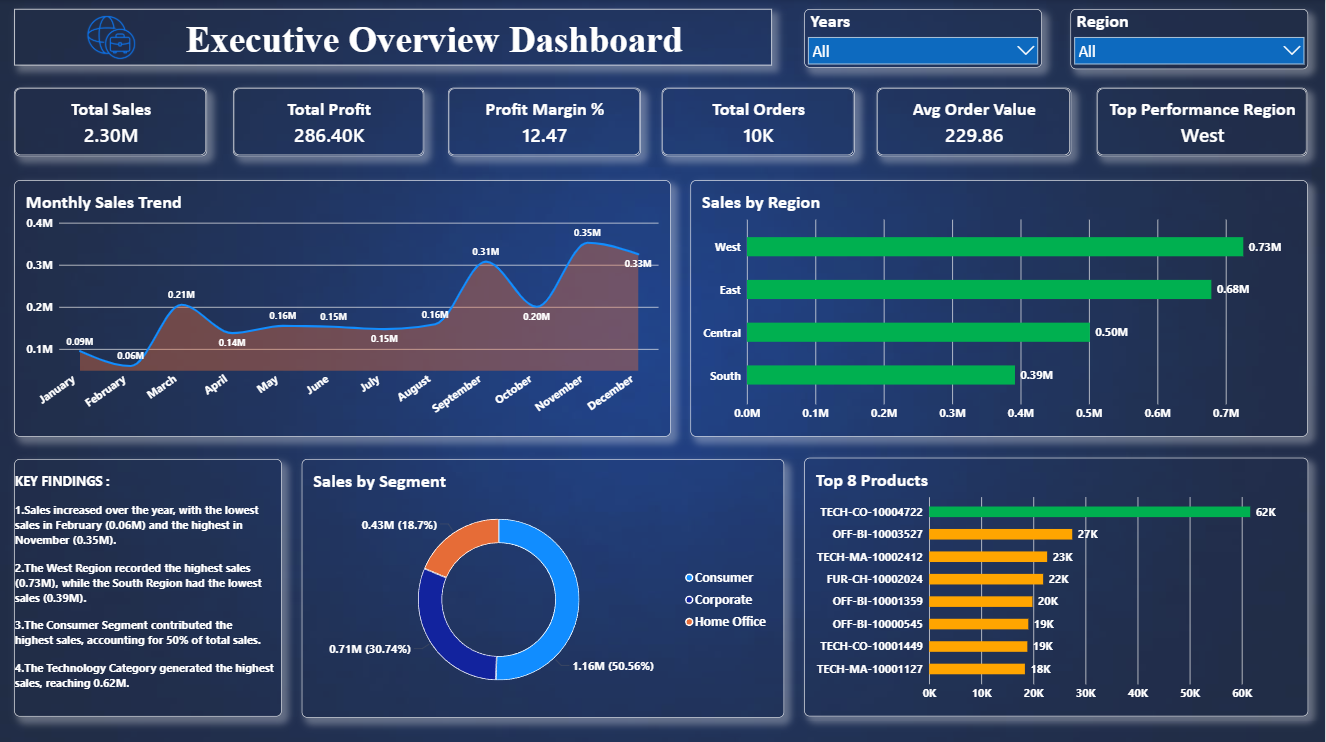

The dashboard page shown, as its layout file describes it:
{"tool":"powerbi","page":{"name":"Executive","canvas":[1920,1080],"ordinal":0},"visuals":[{"type":"cardVisual","fields":{"Data":["Data.Total Sales"]},"box":[23.8,127.7,279.2,99.6],"z":0},{"type":"cardVisual","fields":{"Data":["Data.Total Profit"]},"box":[339.8,127.7,277,99.6],"z":1000},{"type":"cardVisual","fields":{"Data":["Data.Profit Margin %"]},"box":[651.4,127.7,279.2,99.6],"z":2000},{"type":"cardVisual","fields":{"Data":["Data.Total Orders"]},"box":[960.9,127.7,279.2,99.6],"z":3000},{"type":"cardVisual","fields":{"Data":["Data.Avg Order Value"]},"box":[1272.5,127.7,281.3,99.6],"z":4000},{"type":"cardVisual","fields":{"Data":["Data.Top Performance Region"]},"box":[1590.6,127.7,305.1,99.6],"z":5000},{"type":"textbox","box":[23.5,14.5,1096.7,81.4],"z":6000},{"type":"lineChart","title":"Monthly Sales Trend","fields":{"Category":["Data.Order Date.Variation.Date Hierarchy.Month"],"Y":["Sum(Data.Sales)"]},"box":[23.5,262.4,950.1,371],"z":7000},{"type":"barChart","title":"Sales by Region","fields":{"Category":["Data.Region Hierarchy.Region","Data.Region Hierarchy.State","Data.Region Hierarchy.City"],"Y":["Sum(Data.Sales)"]},"box":[1002.6,262.4,894,371],"z":8000},{"type":"donutChart","title":"Sales by Segment","fields":{"Category":["Data.Segment"],"Y":["Sum(Data.Sales)"]},"box":[439.7,666,698.5,374.6],"z":9000},{"type":"barChart","title":"Top 8 Products","fields":{"Category":["Data.Product ID"],"Y":["Sum(Data.Sales)"]},"box":[1167.2,664.1,729.3,374.6],"z":10000},{"type":"slicer","fields":{"Values":["Data.Years"]},"box":[1167.2,14.5,343.8,85.1],"z":11000},{"type":"image","box":[45.2,9,237.1,95.9],"z":12000},{"type":"slicer","fields":{"Values":["Data.Region"]},"box":[1552.7,14.5,343.8,86.9],"z":13000},{"type":"textbox","box":[23.5,666,387.3,372.8],"z":13001}]}

Visuals, with their boxes in screenshot pixels (x1, y1, x2, y2), scaled from the page's 1920x1080 canvas onto the 1326x742 screenshot:
cardVisual - Data.Total Sales: (x1=16, y1=88, x2=209, y2=156)
cardVisual - Data.Total Profit: (x1=235, y1=88, x2=426, y2=156)
cardVisual - Data.Profit Margin %: (x1=450, y1=88, x2=643, y2=156)
cardVisual - Data.Total Orders: (x1=664, y1=88, x2=856, y2=156)
cardVisual - Data.Avg Order Value: (x1=879, y1=88, x2=1073, y2=156)
cardVisual - Data.Top Performance Region: (x1=1099, y1=88, x2=1309, y2=156)
textbox: (x1=16, y1=10, x2=774, y2=66)
"Monthly Sales Trend" lineChart: (x1=16, y1=180, x2=672, y2=435)
"Sales by Region" barChart: (x1=692, y1=180, x2=1310, y2=435)
"Sales by Segment" donutChart: (x1=304, y1=458, x2=786, y2=715)
"Top 8 Products" barChart: (x1=806, y1=456, x2=1310, y2=714)
slicer - Data.Years: (x1=806, y1=10, x2=1044, y2=68)
image: (x1=31, y1=6, x2=195, y2=72)
slicer - Data.Region: (x1=1072, y1=10, x2=1310, y2=70)
textbox: (x1=16, y1=458, x2=284, y2=714)
